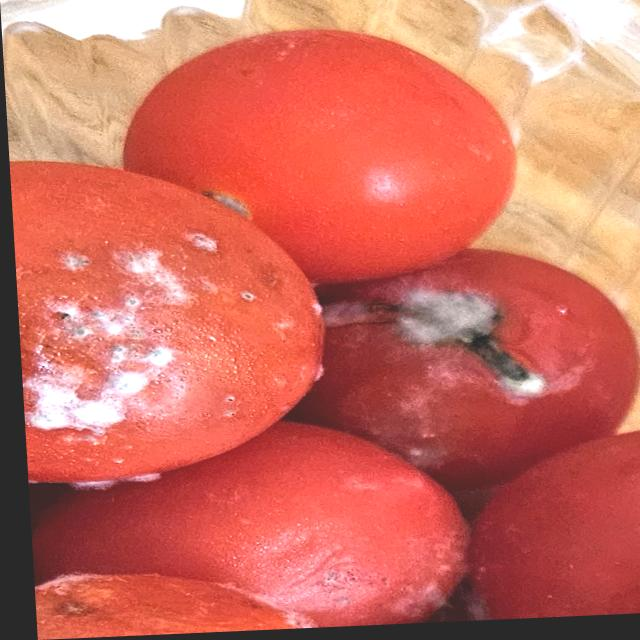rot_lvl2: (53, 295, 183, 373), (22, 370, 127, 444), (397, 286, 512, 351), (461, 325, 546, 402), (131, 239, 199, 303), (34, 574, 124, 622), (18, 311, 32, 357)
